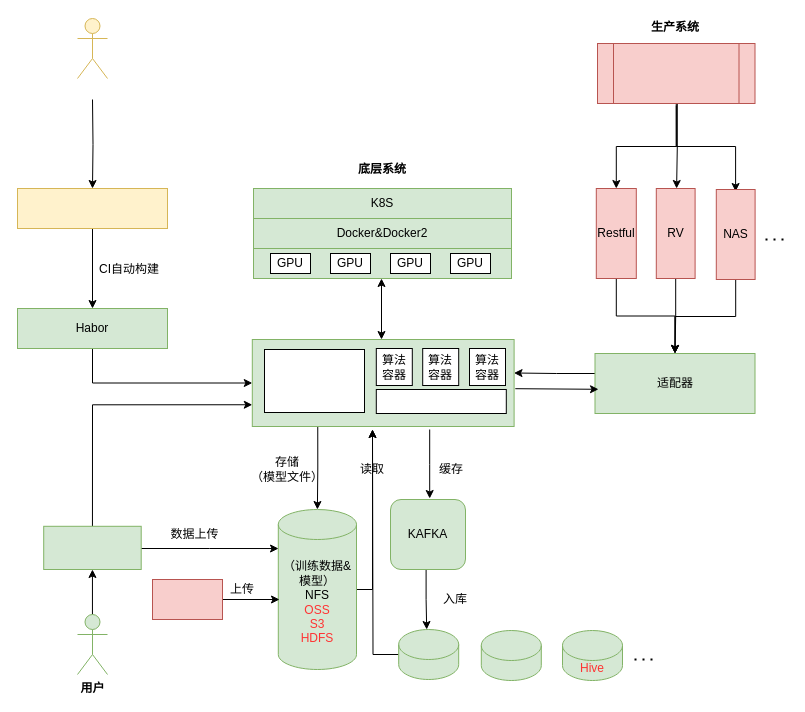
This 805x712 diagram has some shape labels left out. The shapes that lost their labels are listed below. From the top down, each one's box as (x1, y1, x2, y2) in pixels, then its label:
(76, 18, 108, 78): 开发者
(596, 42, 755, 104): MES AOI ...
(16, 188, 168, 228): Git
(264, 348, 364, 412): 应用容器
(375, 388, 506, 414): 调度容器
(43, 525, 141, 570): WEB
(152, 578, 222, 620): 外部数据源
(398, 628, 459, 680): MYSQL
(480, 630, 541, 680): Oracle
